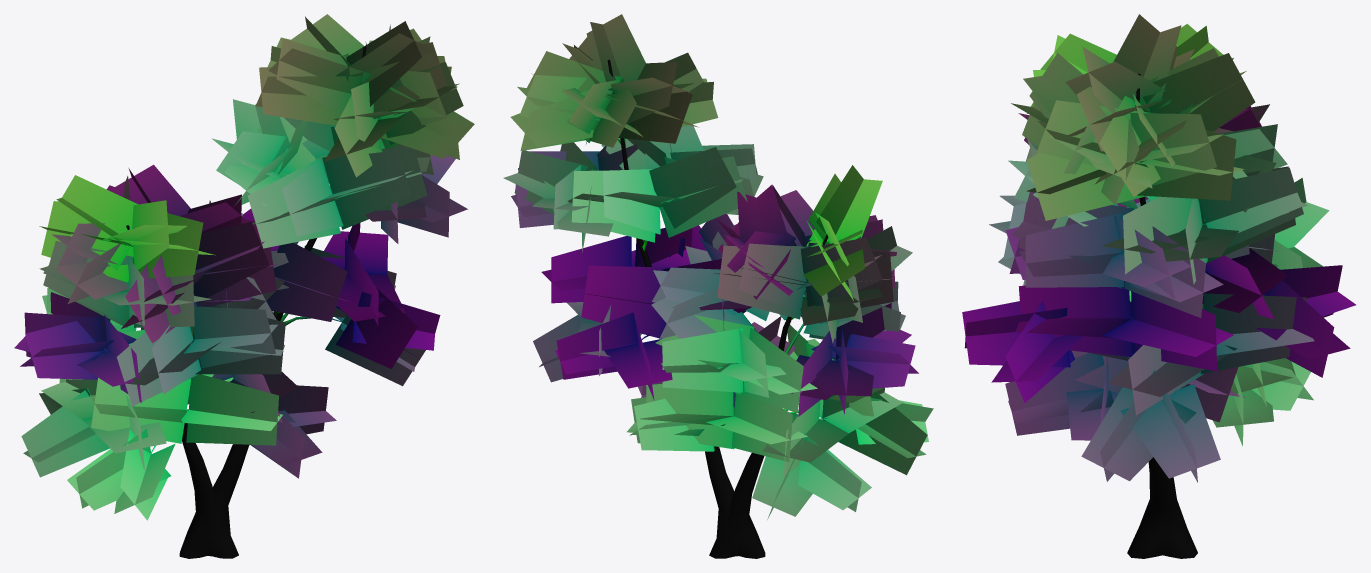
File: Tree_4_5.fbx
3 renders of one model, left to right at view 1: azimuth 30°, elevation 25°; view 2: azimuth 150°, elevation 25°; view 3: azimuth 270°, elevation 25°, orthographic. The views are drawn at different scales.
Visible parts, largest first — view 1: _5; view 2: _5; view 3: _5.
Part boxes in pixels (bbox=[...]): _5: bbox=[14, 14, 474, 558]; _5: bbox=[503, 14, 933, 558]; _5: bbox=[962, 14, 1355, 558].
Size of the model in its own units: 2538 by 2887 by 1746.
